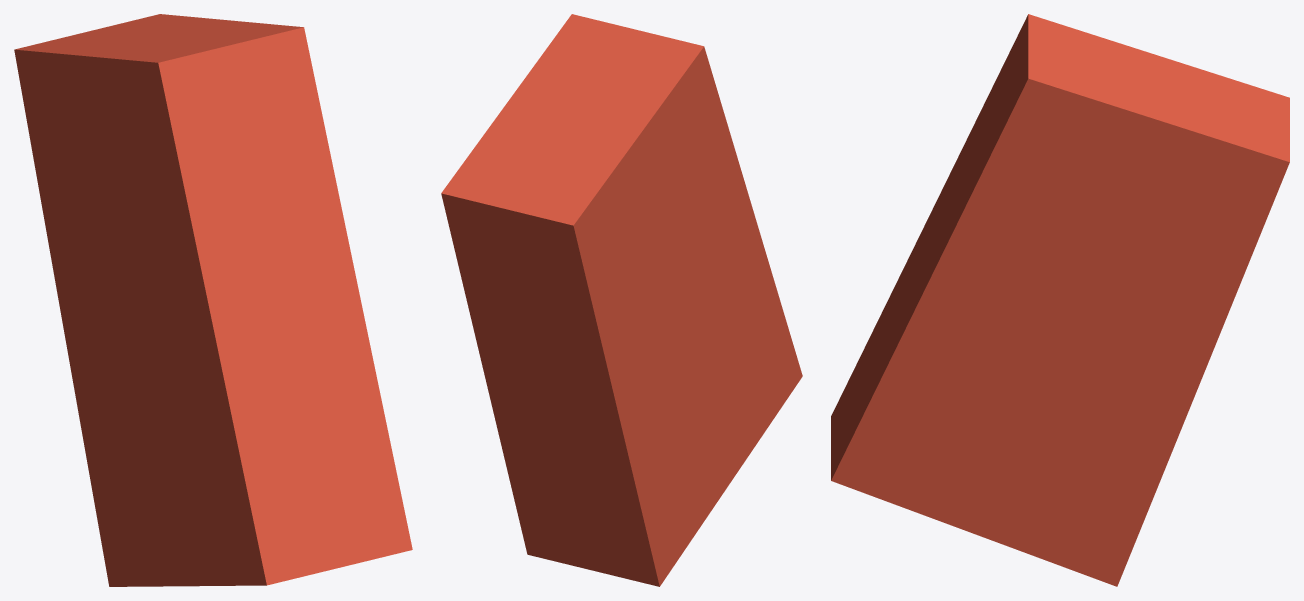
Rendered from bigredcolliderorigin0.glb.
3 renders of one model, left to right at view 1: azimuth 30°, elevation 25°; view 2: azimuth 150°, elevation 25°; view 3: azimuth 270°, elevation 25°, orthographic. The views are drawn at different scales.
Parts seen in each view (by area): view 1: ClubHeadCollider.001; view 2: ClubHeadCollider.001; view 3: ClubHeadCollider.001.
Boxes of the visible parts, x1=… form: ClubHeadCollider.001: x1=14, y1=14, x2=412, y2=586; ClubHeadCollider.001: x1=441, y1=14, x2=802, y2=586; ClubHeadCollider.001: x1=831, y1=14, x2=1289, y2=586.
Bounding box in the file's own units: 0.062 × 0.2275 × 0.1861.
